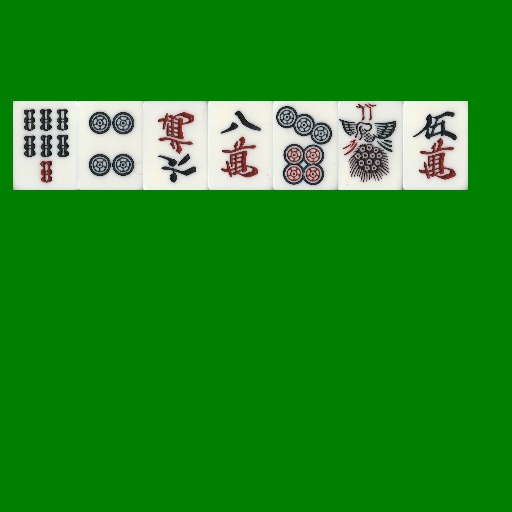1s: (338, 101, 403, 190)
4p: (78, 101, 143, 190)
5m: (403, 101, 468, 190)
6m: (143, 101, 208, 190)
7p: (273, 101, 338, 190)
7s: (13, 101, 78, 190)
8m: (208, 101, 273, 190)
